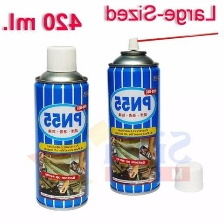aerosol_cans: (32, 38, 92, 212), (104, 34, 165, 198)
